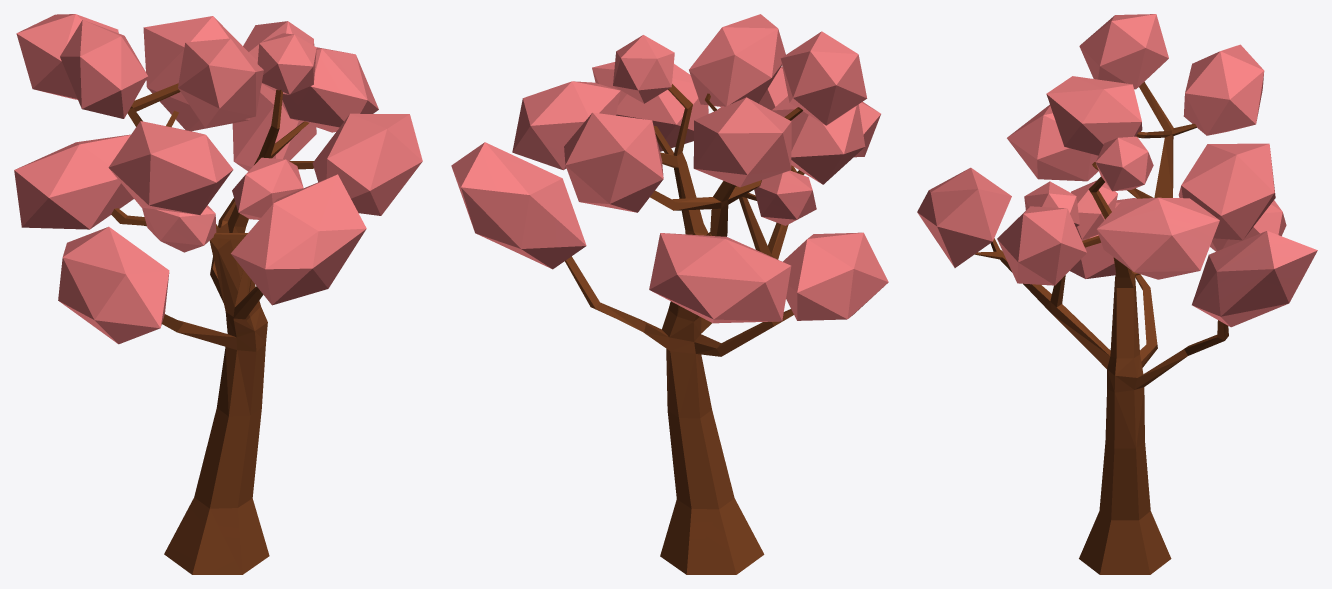
The model's file is tree_low-poly_3d_model.glb.
The picture shows the model from 3 angles, left to right: view 1: azimuth 30°, elevation 25°; view 2: azimuth 150°, elevation 25°; view 3: azimuth 270°, elevation 25°; orthographic projection. The views are drawn at different scales.
Parts seen in each view (by area): view 1: Tree00; view 2: Tree00; view 3: Tree00.
Boxes of the visible parts, x1,y1,x2,y2 form: Tree00: (14, 14, 422, 574); Tree00: (451, 14, 888, 574); Tree00: (917, 14, 1317, 574).
Bounding box in the file's own units: 396 × 632 × 465.
1 material, 1 textured.
